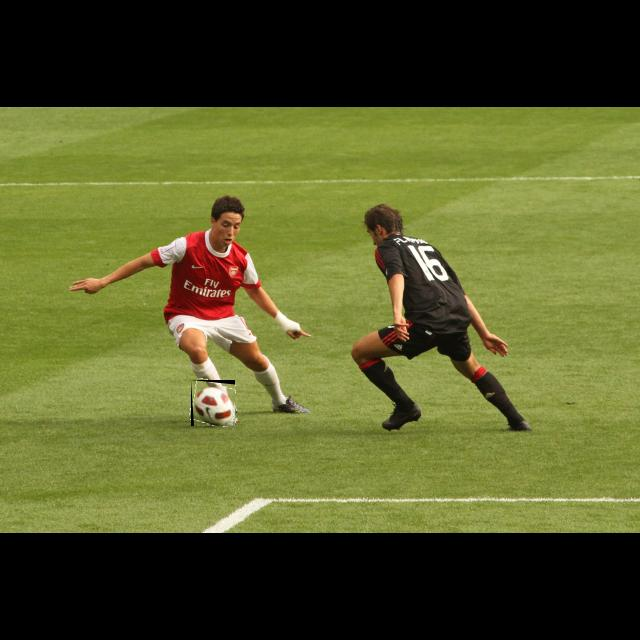Football: (191, 380, 235, 426)
